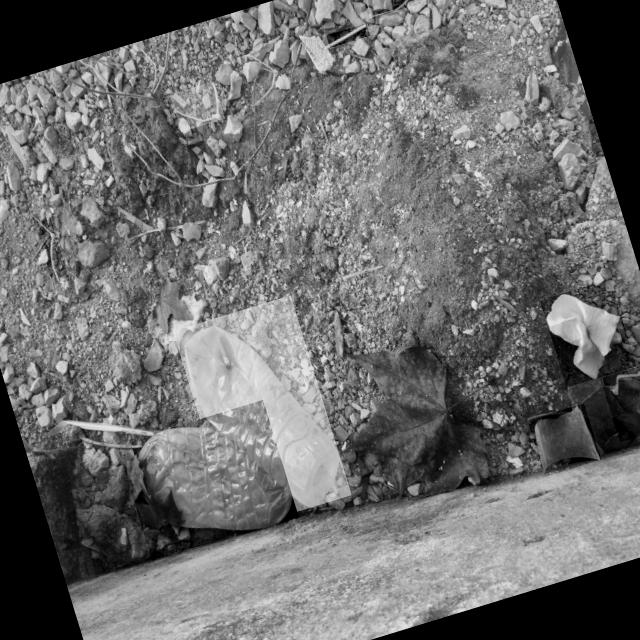Cigarette: (216, 338, 231, 368)
Clear plastic bottle: (177, 325, 340, 507), (127, 426, 292, 529)
Other plastic bottle: (535, 405, 601, 474), (32, 215, 61, 282), (243, 55, 279, 105), (175, 82, 221, 121), (326, 23, 367, 48), (601, 374, 640, 398), (378, 0, 409, 16), (366, 0, 383, 19)
Paper bag: (546, 294, 621, 379)
Straw: (62, 420, 158, 435)
Unlabeled litter: (300, 35, 334, 73)
